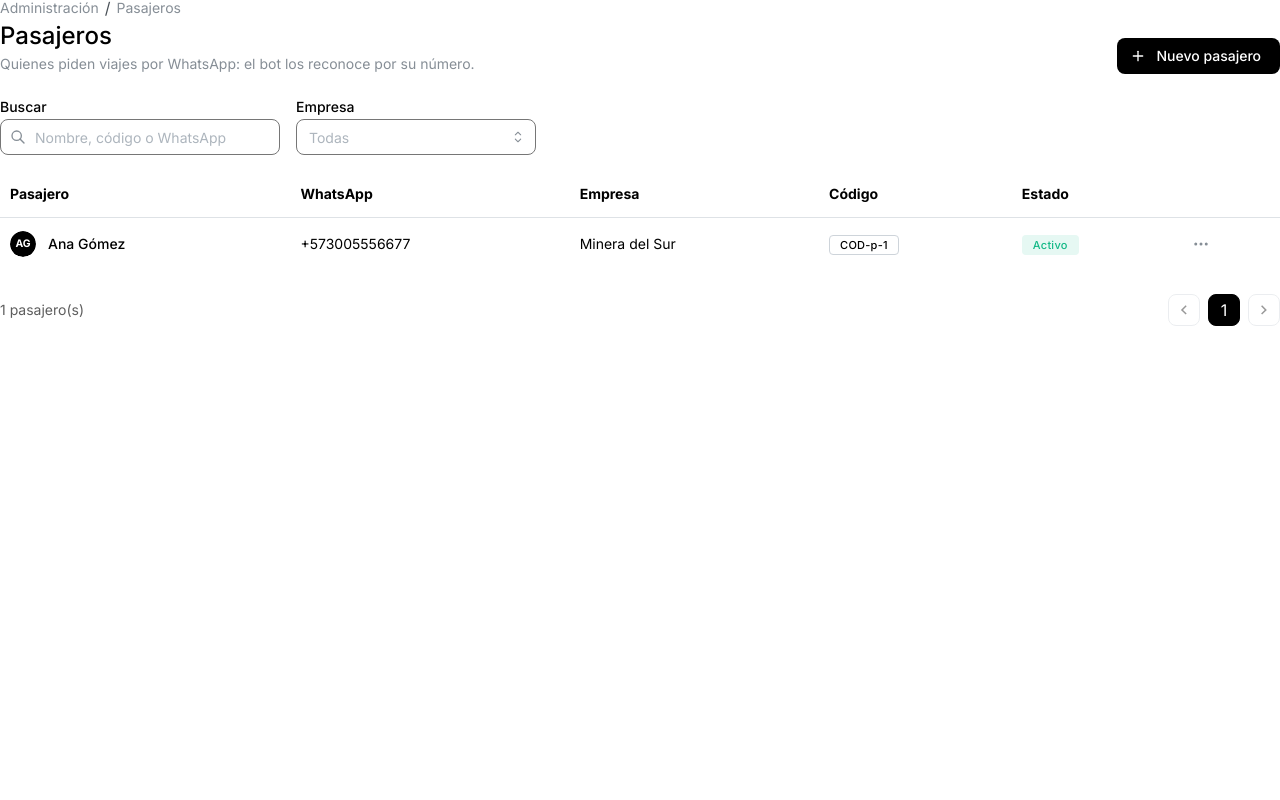
Test case: Pasajeros (RF-05) › el Administrador desactiva un pasajero con confirmación (RF-25)
Click the button named "Acciones de Ana Gómez". click: (1201, 244)
box: 1187,230 -> 1215,258
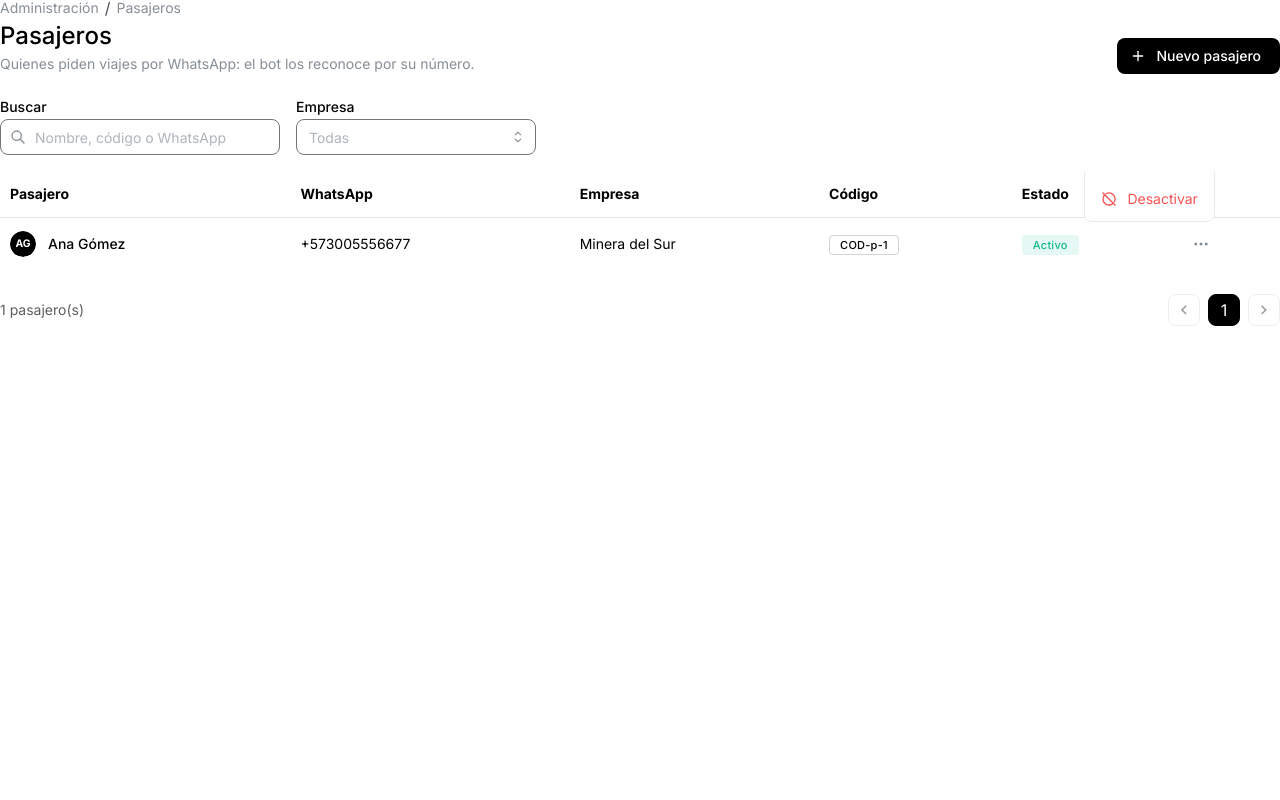
Click the menu item "Desactivar". click: (1150, 199)
box: 1089,182 -> 1210,217
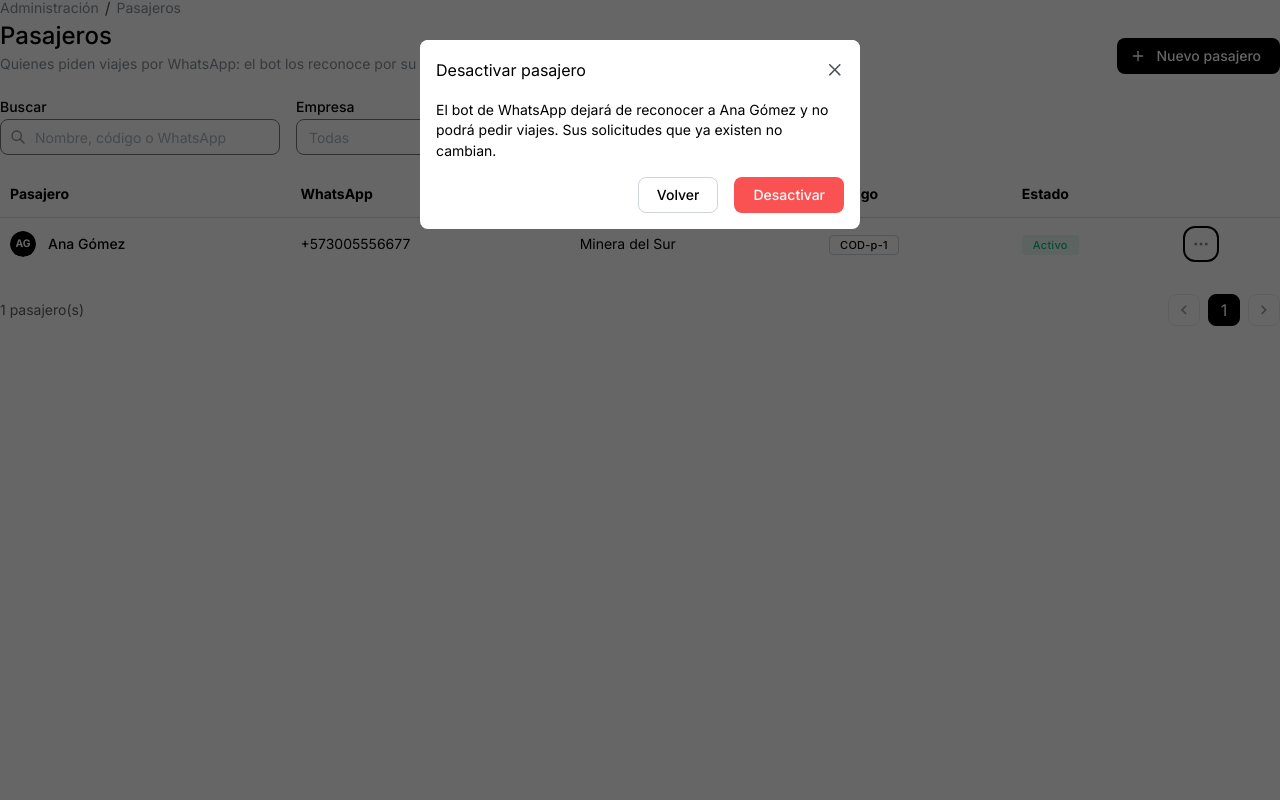
Check: the text "dejará de reconocer a Ana Gómez" is shown, box 436,101 -> 828,159
Click the button "Desactivar". click: (789, 195)
box: 734,177 -> 844,213
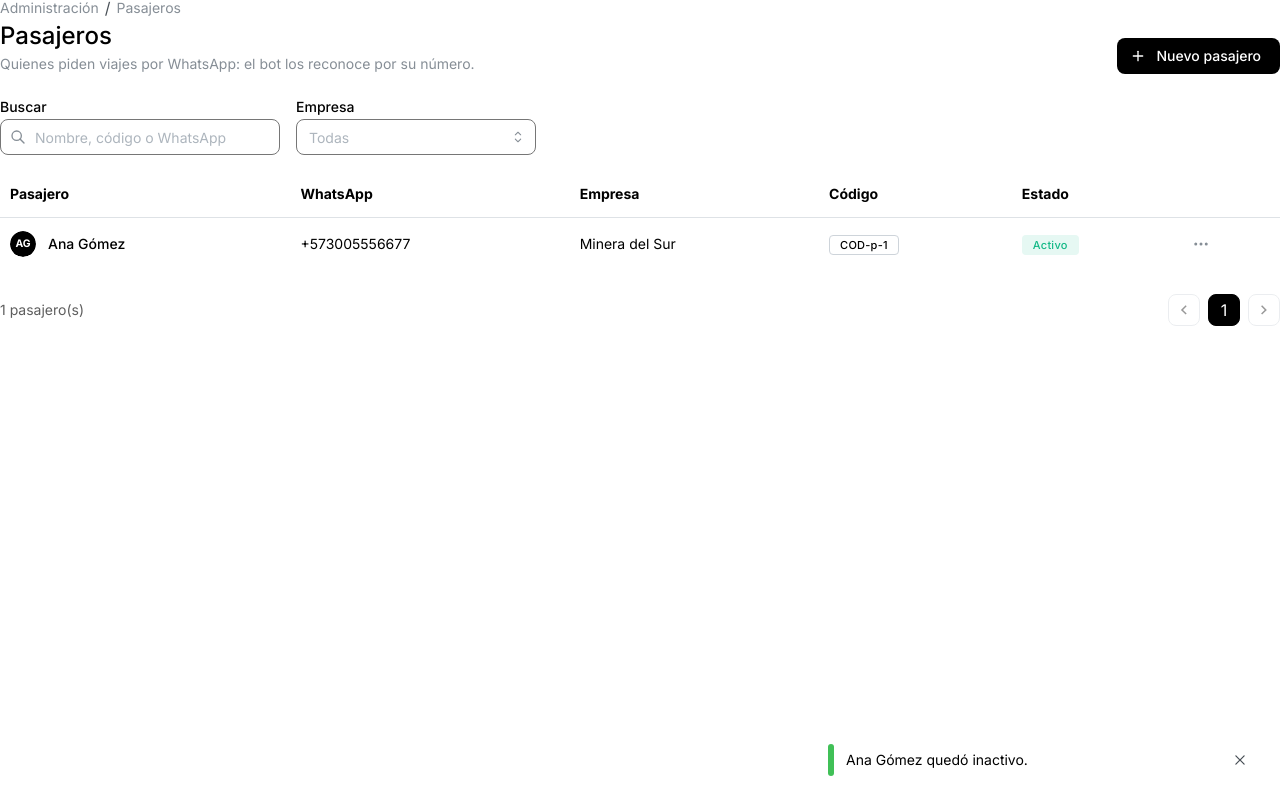
Check: the text "Ana Gómez quedó inactivo." is shown, box 846,751 -> 1028,768
